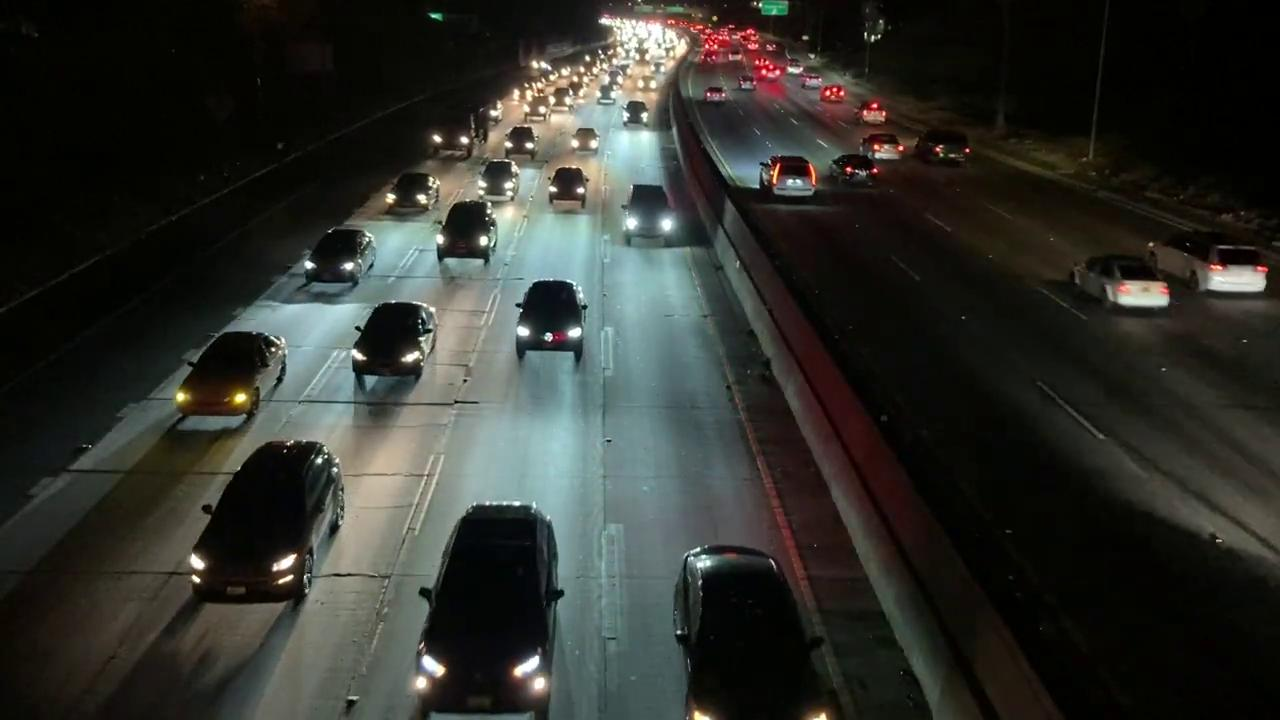car: (417, 506, 573, 709), (183, 437, 349, 605), (674, 544, 834, 718), (172, 329, 288, 420), (351, 298, 437, 382), (512, 279, 591, 359), (1070, 253, 1169, 308), (304, 228, 378, 286), (437, 201, 500, 262), (619, 181, 679, 244), (1201, 246, 1276, 295), (383, 172, 440, 214), (768, 158, 821, 201), (914, 131, 974, 166), (478, 162, 523, 202), (828, 152, 876, 184), (546, 166, 590, 200), (864, 134, 906, 161), (505, 126, 536, 157), (851, 104, 886, 125), (572, 127, 599, 153), (704, 86, 726, 103)
